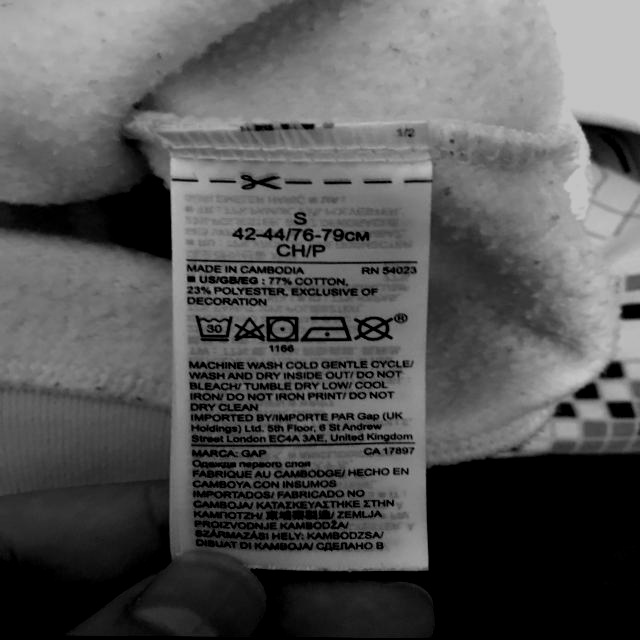30C: (192, 315, 234, 344)
DN_bleach: (232, 315, 263, 341)
DN_dry_clean: (352, 313, 394, 345)
iron_low: (300, 313, 352, 346)
tumble_dry_low: (263, 312, 302, 344)
